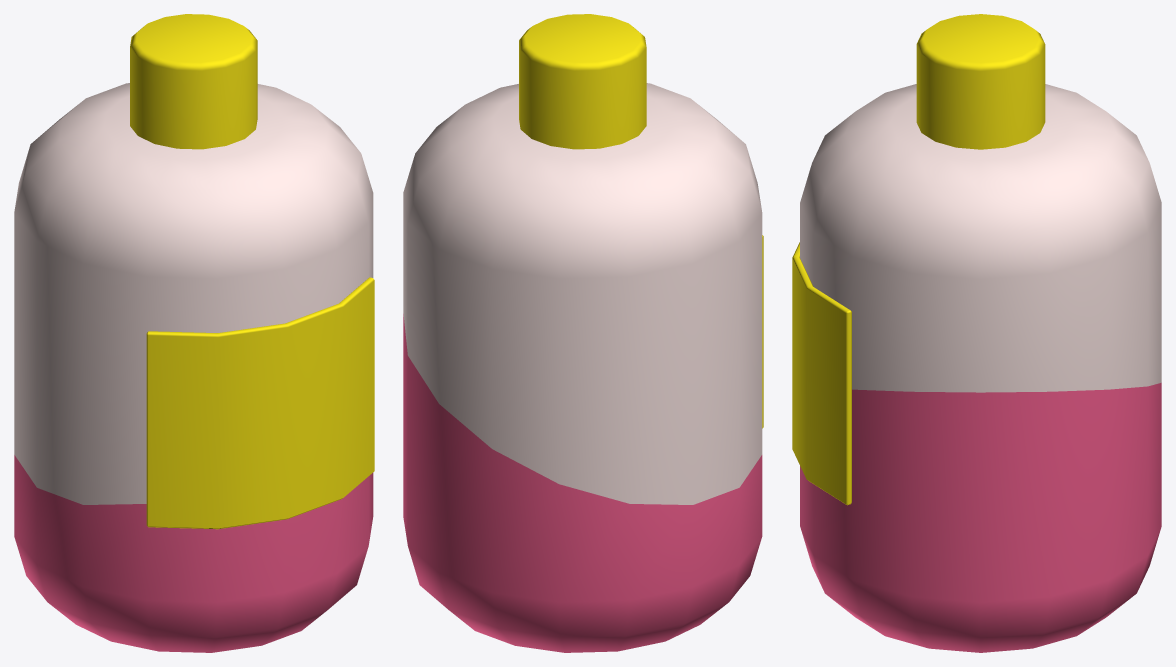
The model's file is Public_15_Bottle_7.glb.
The picture shows the model from 3 angles, left to right: view 1: azimuth 30°, elevation 25°; view 2: azimuth 150°, elevation 25°; view 3: azimuth 270°, elevation 25°; orthographic projection.
Visible parts, largest first — view 1: Public_15_Bottle_7; view 2: Public_15_Bottle_7; view 3: Public_15_Bottle_7.
Boxes of the visible parts, x1,y1,x2,y2 form: Public_15_Bottle_7: (14, 14, 374, 652); Public_15_Bottle_7: (403, 14, 763, 652); Public_15_Bottle_7: (792, 14, 1161, 652).
Size of the model in its own units: 1.35 by 2.34 by 1.38.
Materials: 1 (1 with a texture image).
